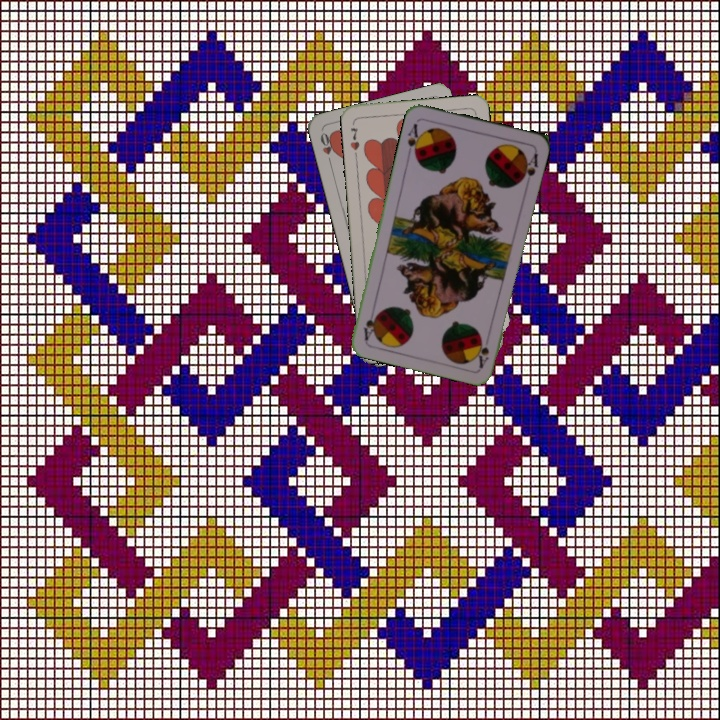H7: (346, 123, 362, 159)
HO: (316, 128, 337, 168)
SA: (403, 119, 425, 160), (473, 334, 492, 370)
